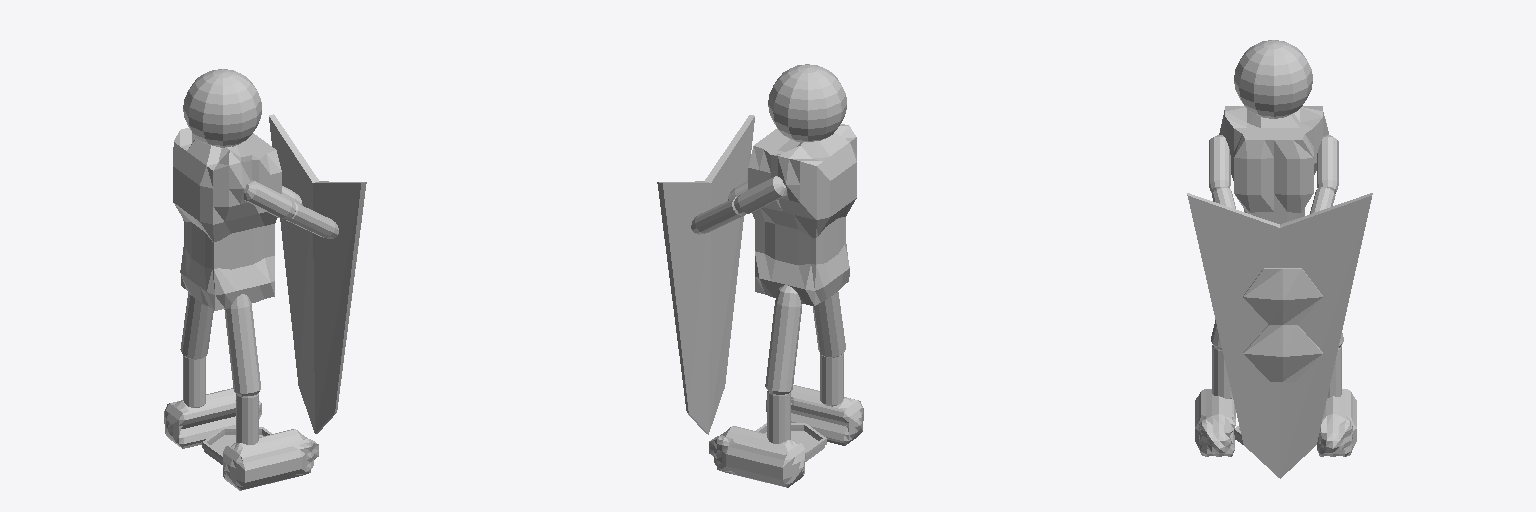
The model's file is Worker.obj.
3 views of the same model, side by side, from view 1: azimuth 30°, elevation 25°; view 2: azimuth 150°, elevation 25°; view 3: azimuth 270°, elevation 25° (orthographic).
Parts seen in each view (by area): view 1: Cube.002, Cube.003, Sphere, Cube, Cube.001, Cylinder.001, Cylinder.002, Cylinder.005, Cylinder, Cylinder.003, Cylinder.004; view 2: Cube.003, Cube.002, Sphere, Cube.001, Cylinder.002, Cube, Cylinder.001, Cylinder.003, Cylinder, Cylinder.006, Cylinder.007; view 3: Cube.003, Cube.002, Sphere, Cube, Cube.001, Cylinder.005, Cylinder.006, Cylinder.
Boxes of the visible parts, x1,y1,x2,y2 form: Cube.002: [173, 128, 281, 310]; Cube.003: [269, 114, 366, 433]; Sphere: [183, 69, 261, 147]; Cube: [223, 429, 318, 490]; Cube.001: [164, 388, 261, 448]; Cylinder.001: [224, 294, 260, 396]; Cylinder.002: [180, 292, 213, 359]; Cylinder.005: [243, 180, 295, 219]; Cylinder: [236, 393, 258, 444]; Cylinder.003: [183, 355, 205, 407]; Cylinder.004: [285, 202, 338, 238]; Cube.003: [657, 115, 754, 434]; Cube.002: [748, 124, 856, 306]; Sphere: [768, 64, 846, 142]; Cube.001: [709, 426, 804, 487]; Cylinder.002: [765, 285, 801, 394]; Cube: [766, 385, 863, 445]; Cylinder.001: [813, 292, 845, 357]; Cylinder.003: [767, 391, 790, 443]; Cylinder: [820, 353, 843, 406]; Cylinder.006: [734, 176, 786, 214]; Cylinder.007: [691, 197, 745, 234]; Cube.003: [1187, 193, 1372, 478]; Cube.002: [1219, 106, 1328, 224]; Sphere: [1234, 40, 1312, 118]; Cube: [1195, 389, 1235, 456]; Cube.001: [1317, 389, 1356, 456]; Cylinder.005: [1209, 135, 1230, 192]; Cylinder.006: [1317, 135, 1338, 193]; Cylinder: [1212, 345, 1232, 398].
Size of the model in its own units: 42.24 by 108 by 46.59.